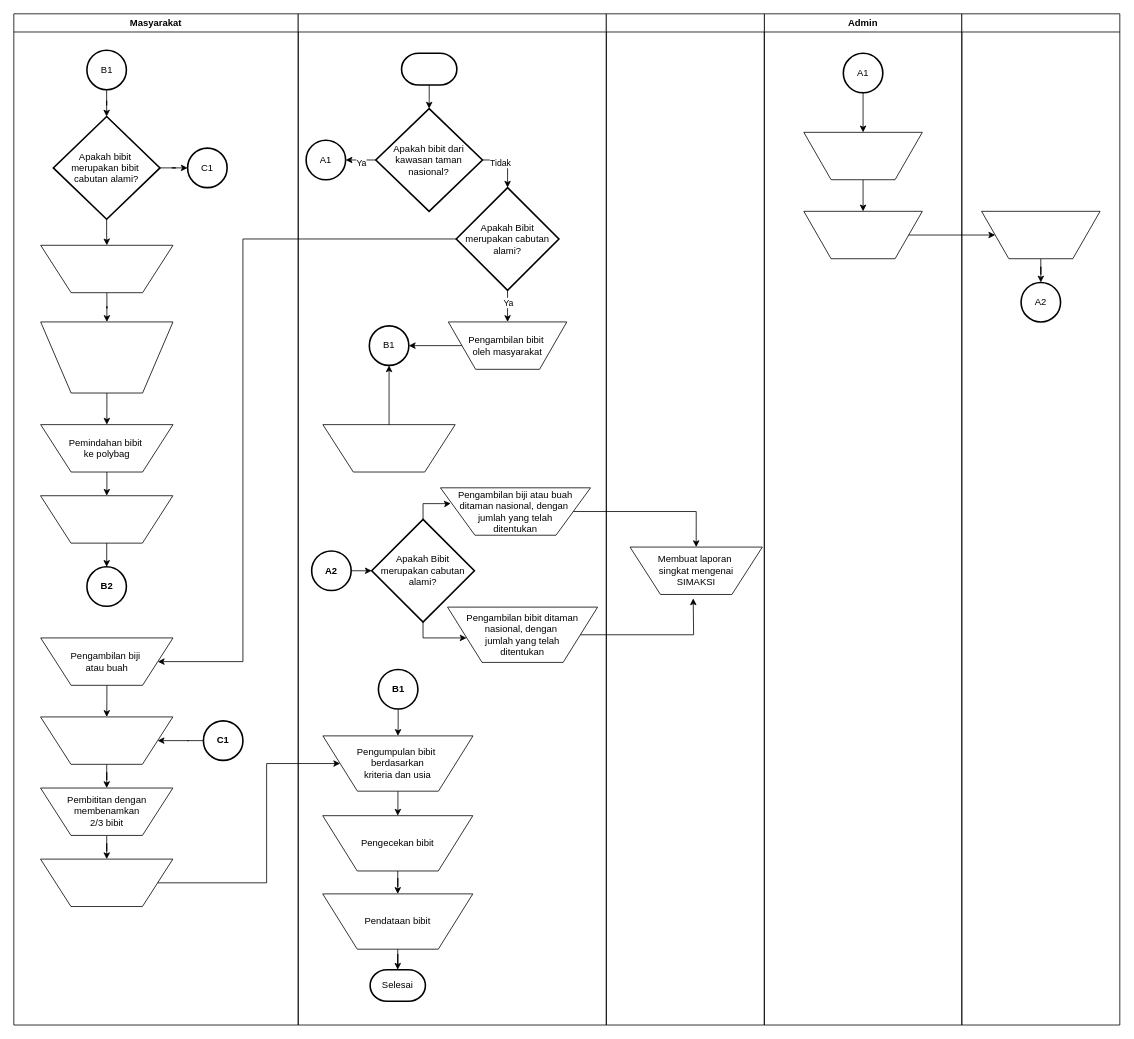
Some shapes in this 1134 by 1039 pixel diagram are drawn without their labels. The shapes that lost their labels are listed below. From the top down, each one's box as (x1, y1, x2, y2) in pixels, then its label:
(400, 52, 457, 85): Mulai
(803, 132, 922, 180): Membuat surat izin masuk kawasan taman nasional
(803, 211, 922, 259): Mengirim surat ke pihak taman nasional
(981, 211, 1100, 259): Memberikan SIMAKSI dan pendamping
(40, 245, 173, 293): Pemindahan Biibit ke lokasi persemaian
(40, 321, 173, 393): Pemerosesan Bibit yang telah diambil (dibersihkan dan dipangkas daun berlebih)
(322, 424, 455, 472): Mengkoordinir proses pengelolaan bibit
(40, 495, 173, 543): Pemindahan Bibit ke lokasi bedeng
(297, 13, 606, 1025): Staf
(606, 13, 764, 1025): Koordinator Kehutanan
(961, 13, 1120, 1025): Taman Nasional Gunung Palung
(40, 716, 173, 764): Pemberian media tabur (di beden)
(40, 858, 173, 907): Pemindahan bibit dari beden tabur ke polybag
